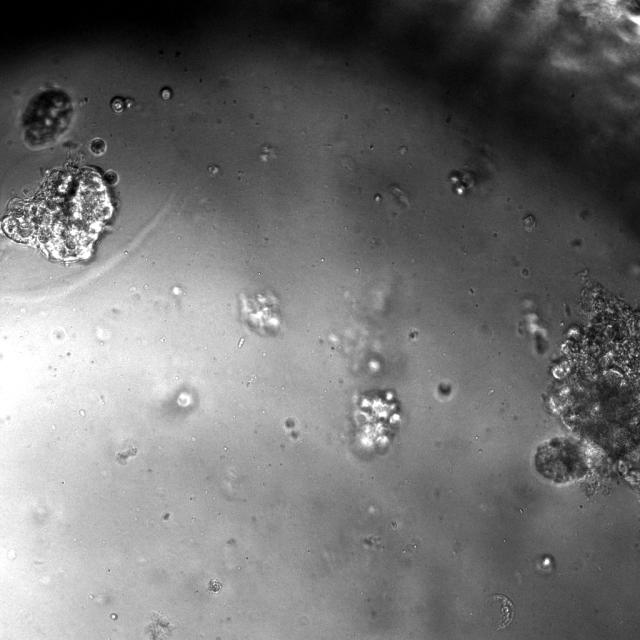organoid: (532, 282, 639, 500), (0, 161, 118, 264), (351, 389, 401, 454), (21, 88, 72, 148), (239, 291, 281, 335), (517, 299, 549, 354), (481, 594, 514, 629), (449, 167, 474, 195), (110, 96, 134, 114), (283, 416, 300, 439), (89, 137, 106, 156), (522, 214, 536, 232), (438, 381, 451, 396), (159, 86, 172, 101), (208, 579, 222, 592)
